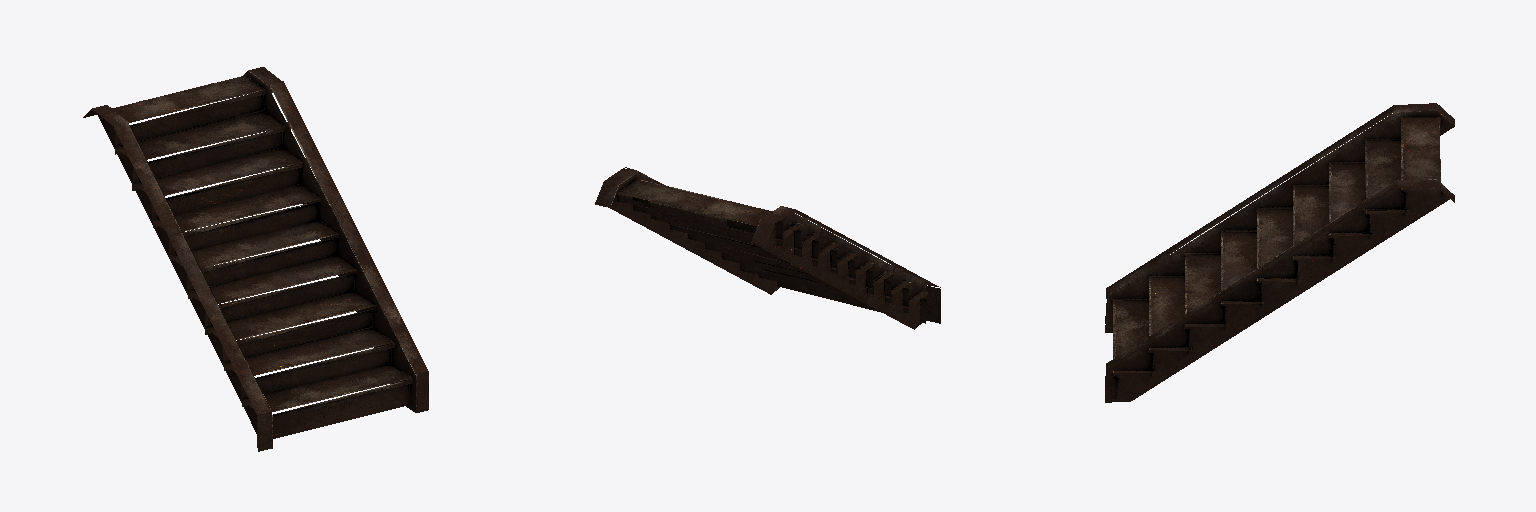
The picture shows the model from 3 angles: view 1: azimuth 30°, elevation 25°; view 2: azimuth 150°, elevation 25°; view 3: azimuth 270°, elevation 25°; orthographic projection.
Visible parts, largest first — view 1: Box004_01_-_Default_0_Box004_01_-_Default_0_01_-_Default; view 2: Box004_01_-_Default_0_Box004_01_-_Default_0_01_-_Default; view 3: Box004_01_-_Default_0_Box004_01_-_Default_0_01_-_Default.
Part boxes in pixels (x1,y1,x2,y2): Box004_01_-_Default_0_Box004_01_-_Default_0_01_-_Default: (83, 67, 428, 451); Box004_01_-_Default_0_Box004_01_-_Default_0_01_-_Default: (595, 167, 940, 329); Box004_01_-_Default_0_Box004_01_-_Default_0_01_-_Default: (1105, 103, 1454, 402).
Bounding box in the file's own units: 1.1 × 1.36 × 1.94.
1 materials, 1 textured.